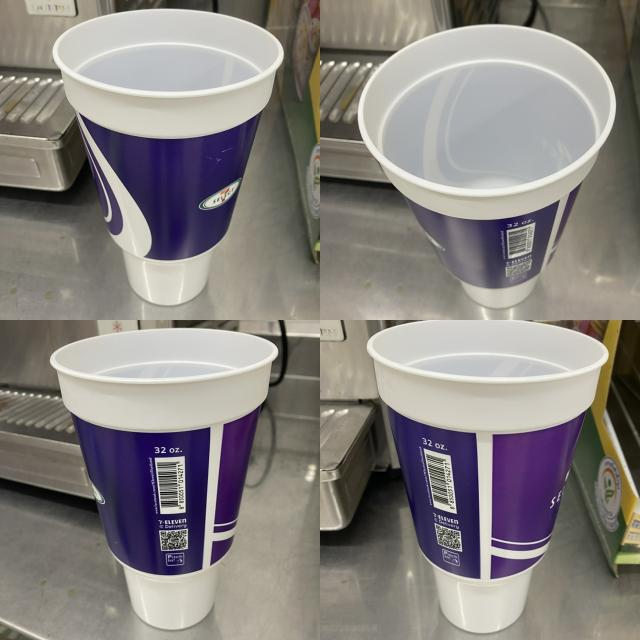Single-Use-Plastic: (368, 320, 608, 632), (359, 25, 616, 308), (50, 329, 278, 630), (54, 9, 284, 305)
